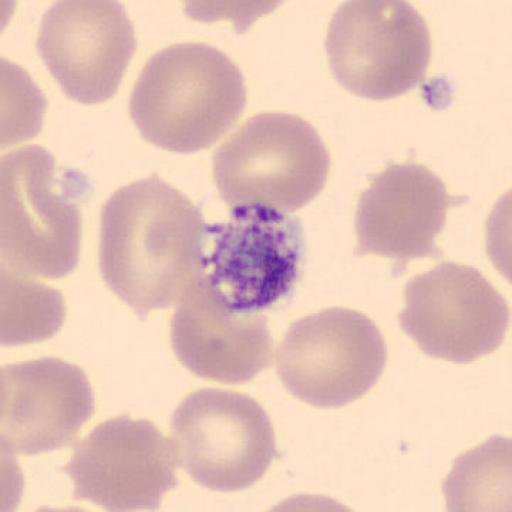Platelet: (198, 199, 310, 317)
RBC: (95, 171, 209, 321), (126, 40, 249, 156), (210, 110, 332, 216), (272, 304, 390, 410), (166, 385, 279, 495), (398, 260, 512, 366), (64, 412, 182, 512), (167, 276, 274, 386), (2, 142, 85, 281), (323, 1, 434, 102), (35, 0, 139, 106), (352, 160, 450, 262), (2, 353, 96, 458), (441, 433, 512, 512), (2, 267, 68, 348), (2, 55, 48, 151), (180, 0, 294, 37), (483, 186, 512, 299), (246, 491, 378, 512), (0, 406, 26, 512), (0, 437, 26, 512), (2, 499, 127, 512), (5, 503, 121, 512), (0, 0, 20, 42)
